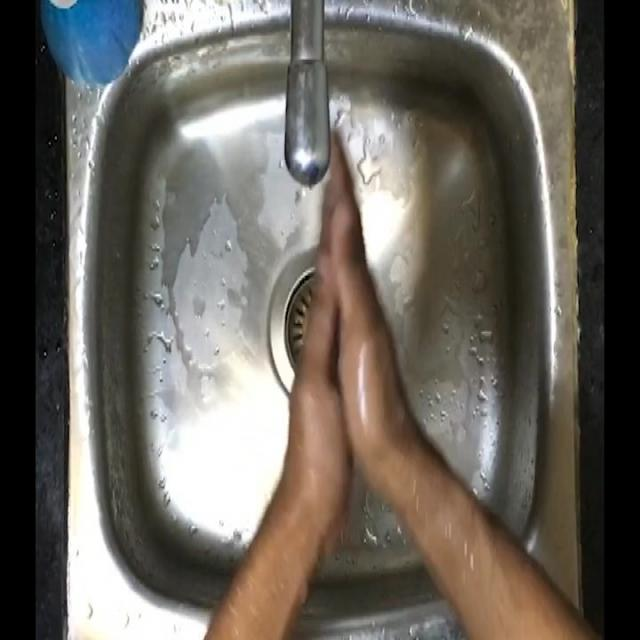step_1: (277, 107, 397, 448)
